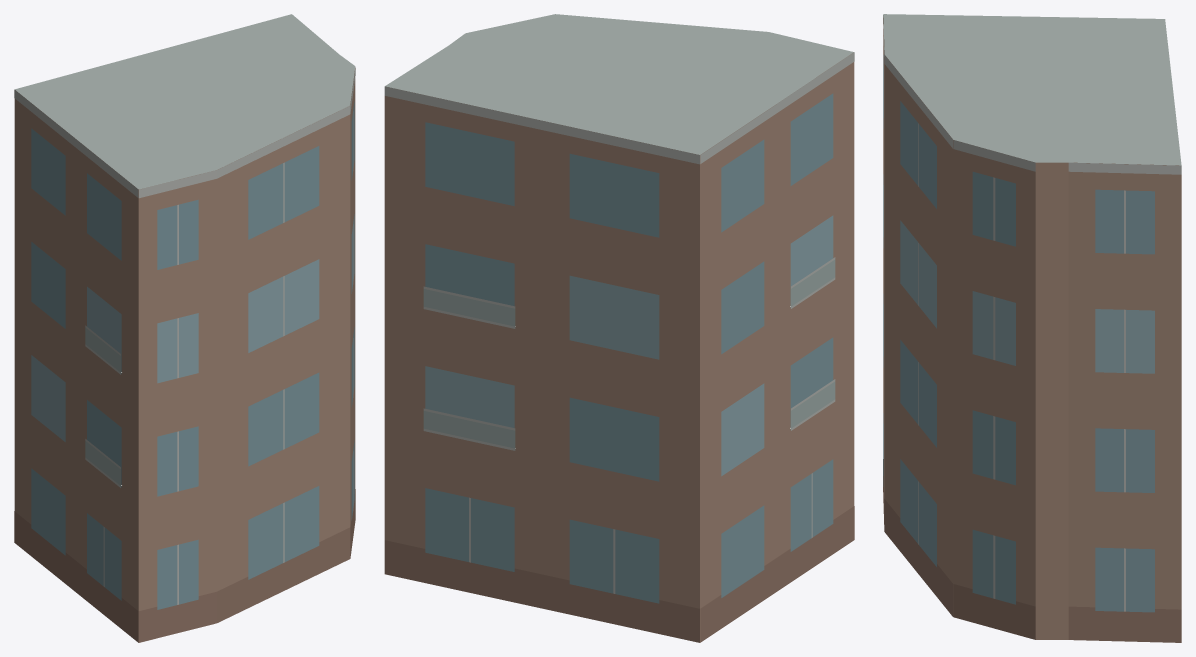
Rendered from survey-upis-32998716.glb.
3 views of the same model, side by side, from view 1: azimuth 30°, elevation 25°; view 2: azimuth 150°, elevation 25°; view 3: azimuth 270°, elevation 25° (orthographic). The views are drawn at different scales.
Visible parts, largest first — view 1: survey-upis-32998716.tmp; view 2: survey-upis-32998716.tmp; view 3: survey-upis-32998716.tmp.
Part boxes in pixels (<box>): survey-upis-32998716.tmp: <box>14,14,355,642</box>; survey-upis-32998716.tmp: <box>384,14,854,642</box>; survey-upis-32998716.tmp: <box>883,14,1181,642</box>.
Size of the model in its own units: 8.59 by 12.6 by 7.15.
